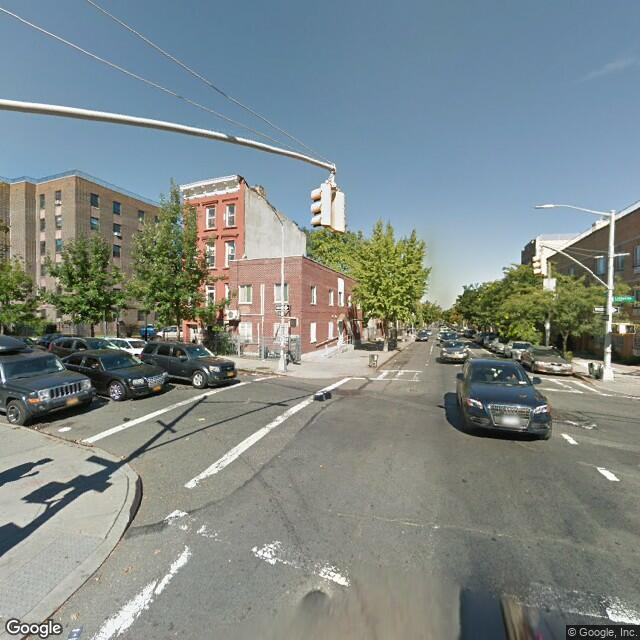litter: (66, 623, 90, 640)
